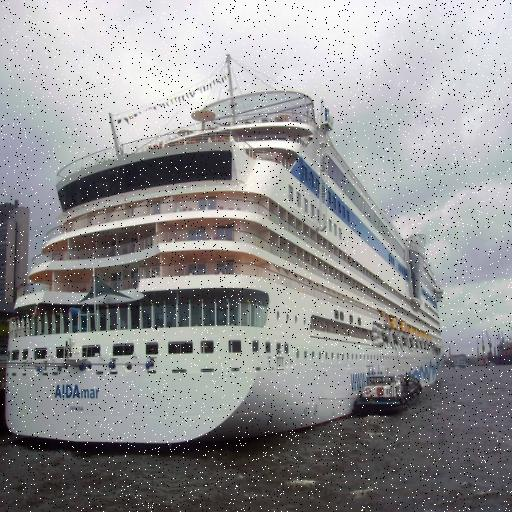cruises: (1, 51, 450, 458)
